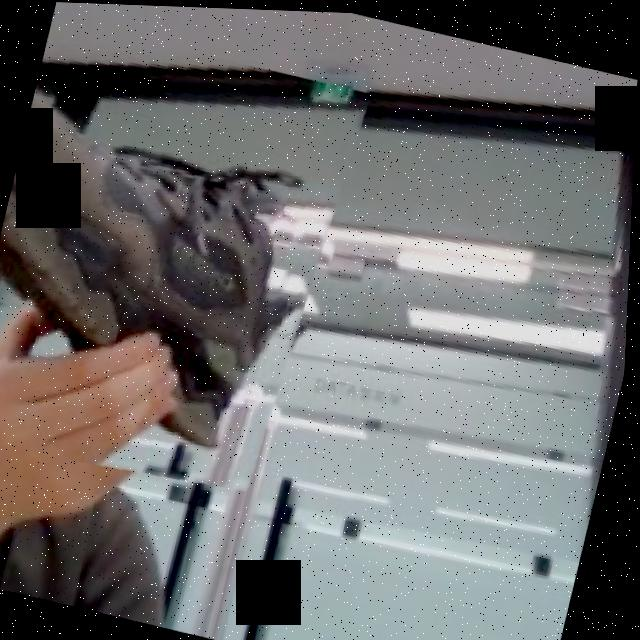shoe: (0, 17, 374, 515)
